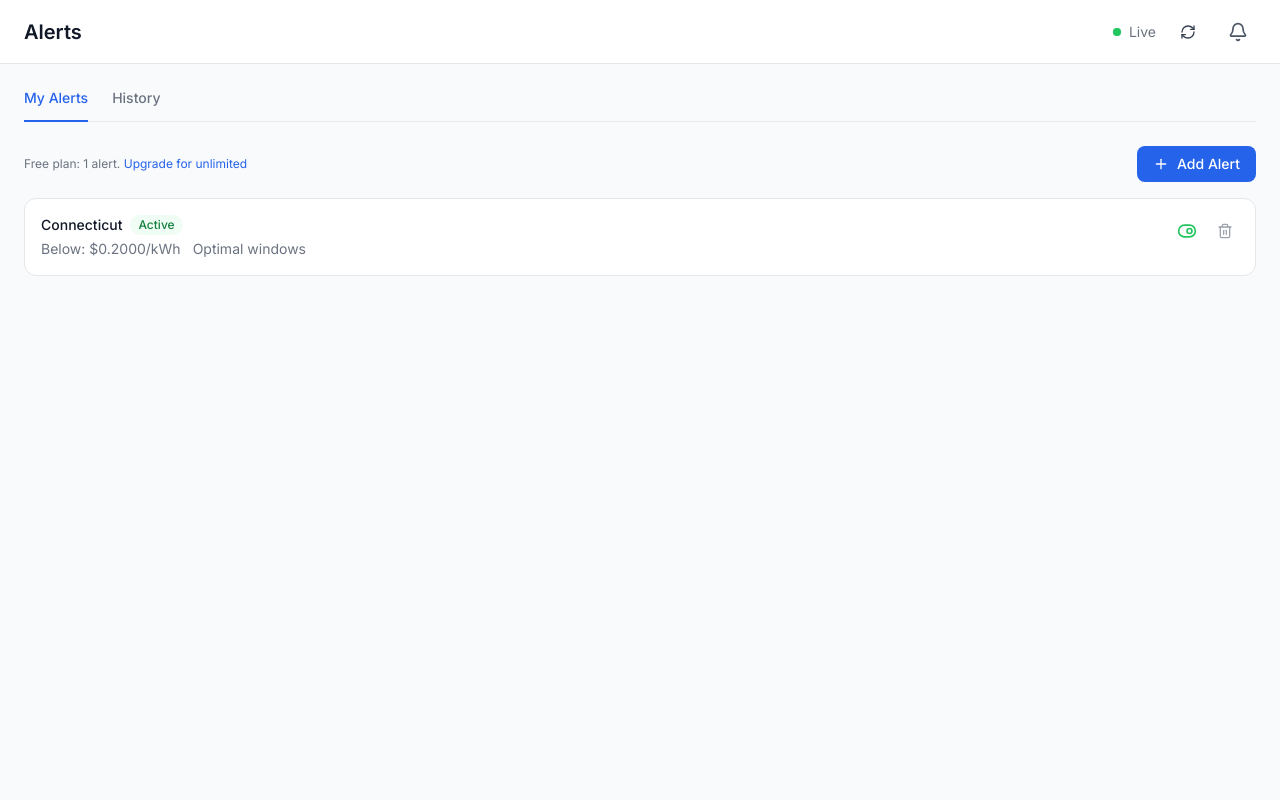
Test: AlertsContent › shows tier limit upgrade banner when create returns 403
Expected: the number of elements with test id "alert-card" is 1, [24,198,1256,276]
// Open form
Click the button "Add Alert".
click(1196, 164)  # box [1137,146,1256,182]
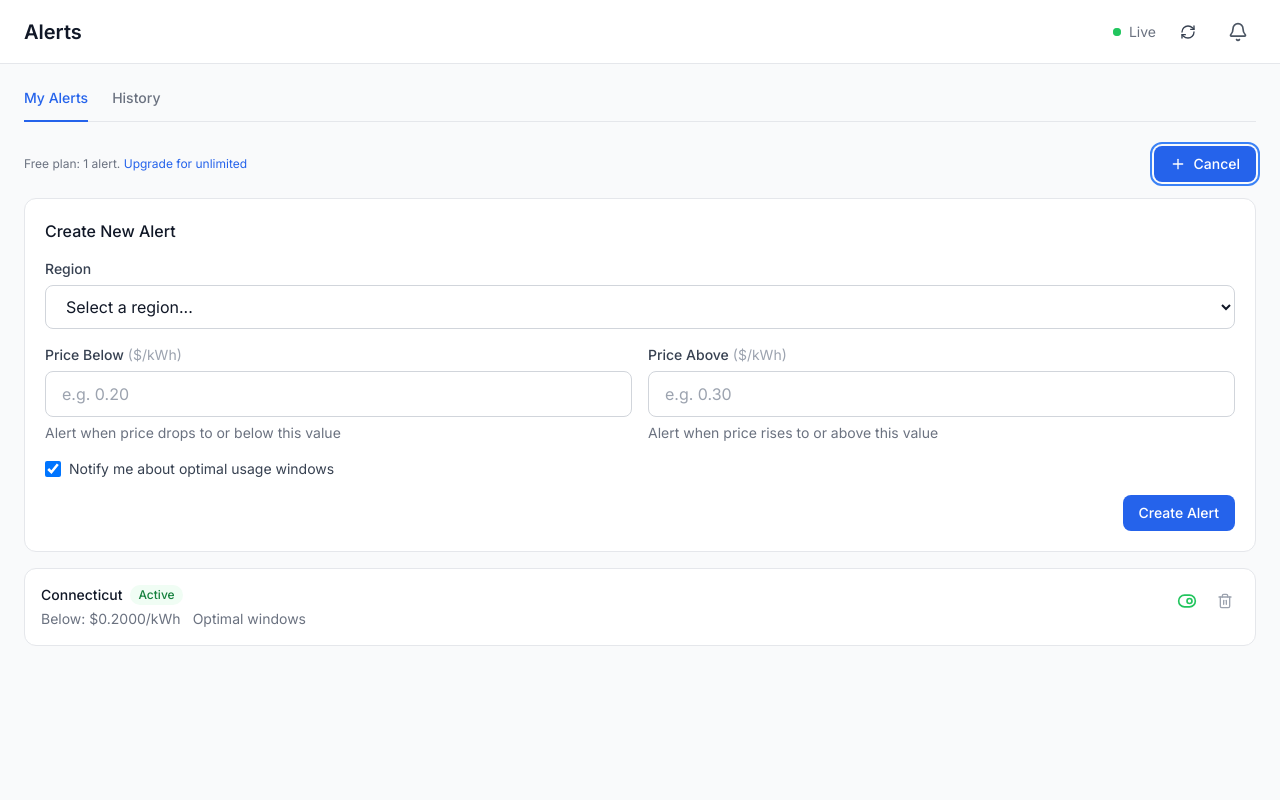
Expected: the form with test id "alert-form" is shown, [45,219,1235,531]
// Fill form minimally
Select "Texas (TX)" in the dropdown with test id "region-select" at {"x": 640, "y": 307}, box [45,285,1235,329]
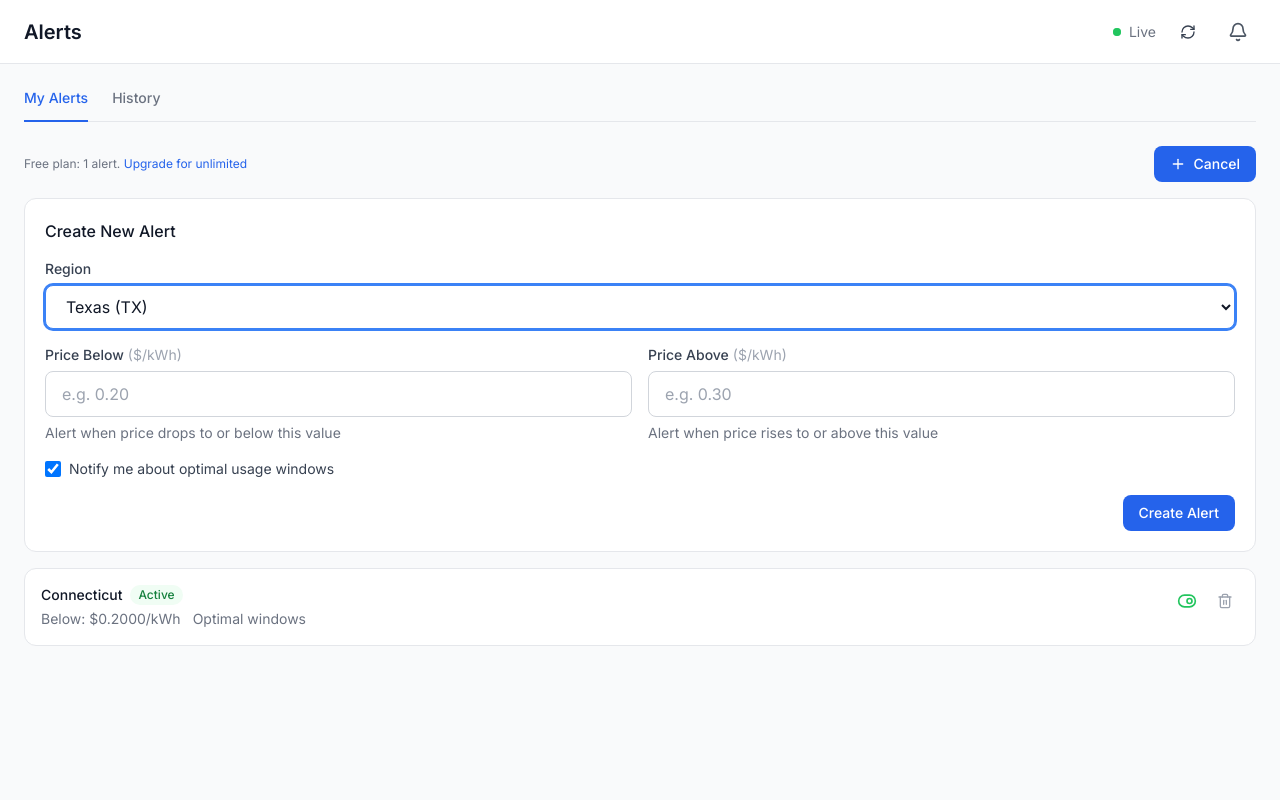
Click the button with test id "submit-alert".
click(1179, 513)  # box [1123,495,1235,531]
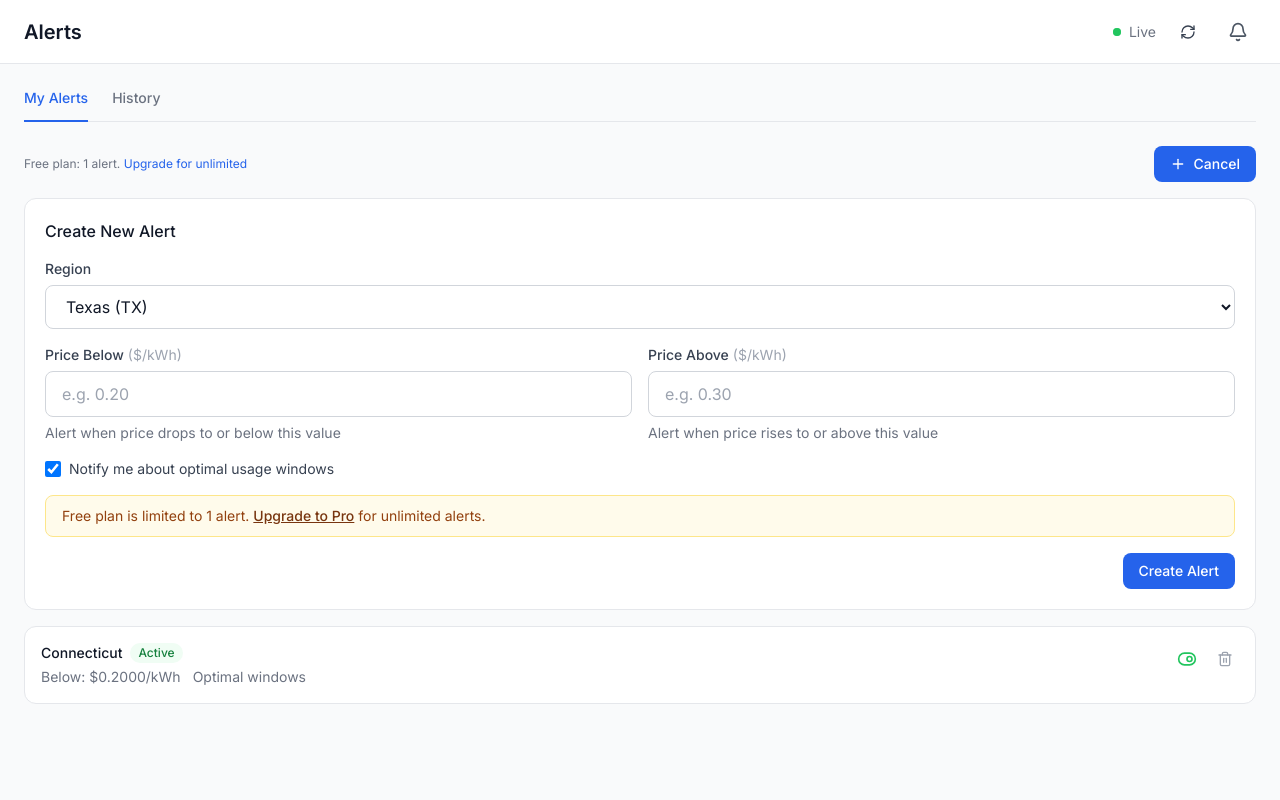
Expected: the text "Free plan is limited to 1 alert. Upgrade to Pro for unlimited alerts." is shown, [45,495,1235,537]
